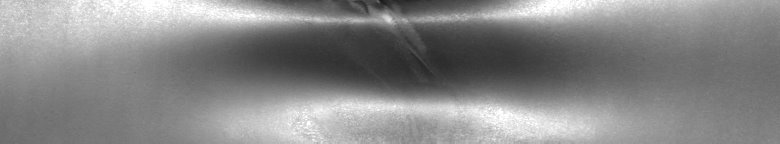ke: (239, 4, 536, 109)
